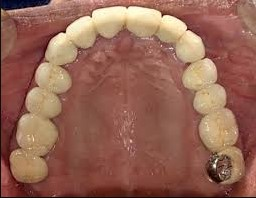UL1BC_healthy: (181, 59, 219, 87)
UL1M_healthy: (199, 111, 240, 151)
UL2BC_healthy: (193, 83, 228, 112)
UL2M_decay: (207, 148, 246, 181)
ULCI_healthy: (127, 5, 161, 41)
ULC_healthy: (177, 31, 205, 62)
ULLI_healthy: (163, 16, 186, 43)
UR1BC_healthy: (35, 62, 73, 92)
UR1M_healthy: (16, 115, 61, 155)
UR2BC_healthy: (26, 89, 64, 118)
UR2M_healthy: (11, 150, 50, 185)
URCI_healthy: (92, 6, 126, 39)
URC_healthy: (47, 33, 78, 65)
URLI_healthy: (67, 15, 96, 49)
